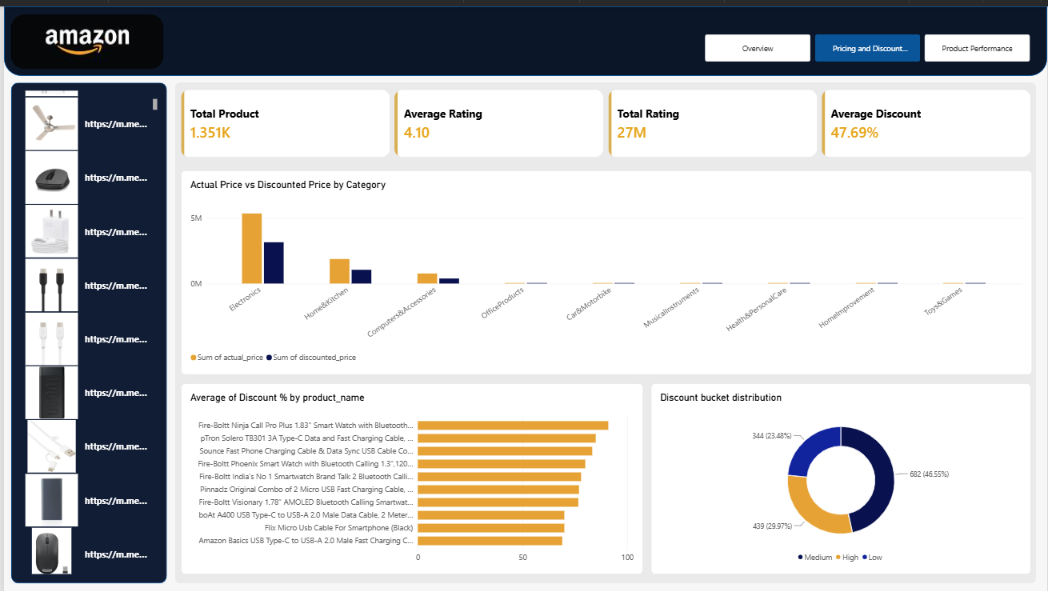

This screenshot's page, from the dashboard's own definition file:
{"tool":"powerbi","page":{"name":"Pricing and Discount analysis","canvas":[1920,1080],"ordinal":1},"visuals":[{"type":"shape","box":[0,0,1920,128],"z":0},{"type":"shape","box":[12.9,139.9,287.1,922.1],"z":1000},{"type":"shape","box":[314.7,139.9,1584.7,922.1],"z":2000},{"type":"cardVisual","fields":{"Data":["Count(amazon.product_id)","Avg(amazon.rating)","Sum(amazon.rating_count)","Avg(amazon.discount_percentage)"]},"box":[325,153.3,1565,125],"z":3000},{"type":"clusteredColumnChart","title":"Actual Price vs Discounted Price by Category","fields":{"Category":["amazon.category.1"],"Y":["Sum(amazon.actual_price)","Sum(amazon.discounted_price)"]},"box":[326,302,1566,376],"z":4000},{"type":"image","box":[12,14,281.1,101.1],"z":5000},{"type":"barChart","fields":{"Category":["amazon.product_name"],"Y":["Avg(amazon.Discount %)"]},"box":[325.8,693.9,850.3,351.5],"z":6000},{"type":"donutChart","title":"Discount bucket distribution","fields":{"Category":["amazon.Discount Bucket"],"Y":["CountNonNull(amazon.Discount Bucket)"]},"box":[1190.8,693.9,699.4,351.5],"z":7000},{"type":"pageNavigator","box":[1290.2,51.5,600,50],"z":8000},{"type":"listSlicer","fields":{"Values":["amazon.img_link"]},"box":[9.2,139.9,290.8,922.1],"z":9000}]}

Visuals, with their boxes in screenshot pixels (x1, y1, x2, y2), scaled from the page's 1920x1080 canvas onto the 1048x591 screenshot:
shape: 0,0,1047,70
shape: 7,77,164,581
shape: 172,77,1037,581
cardVisual - Count(amazon.product_id) x Avg(amazon.rating): 177,84,1032,152
"Actual Price vs Discounted Price by Category" clusteredColumnChart: 178,165,1033,371
image: 7,8,160,63
barChart - amazon.product_name x Avg(amazon.Discount %): 178,380,642,572
"Discount bucket distribution" donutChart: 650,380,1032,572
pageNavigator: 704,28,1032,56
listSlicer - amazon.img_link: 5,77,164,581
